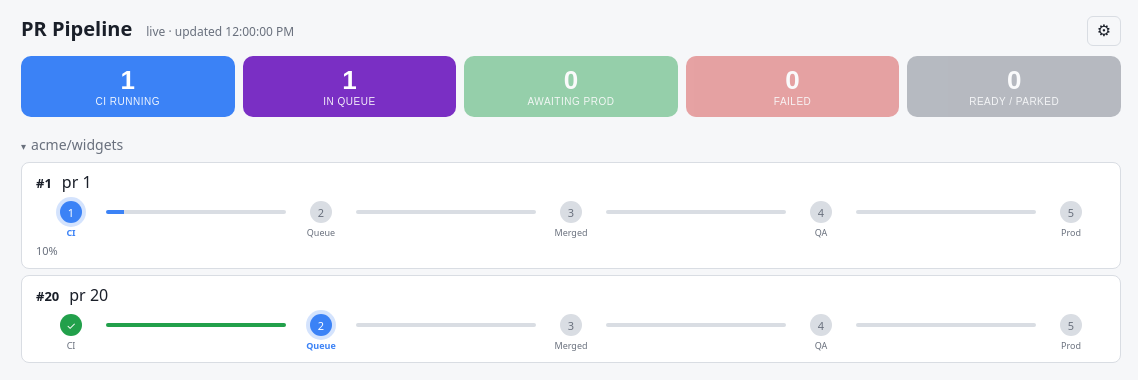
Test: App › clicking active tile again clears the filter
The image size is (1138, 380).
// filter to running
Click the button "1 CI running" at (128, 87), box [21, 56, 235, 117]
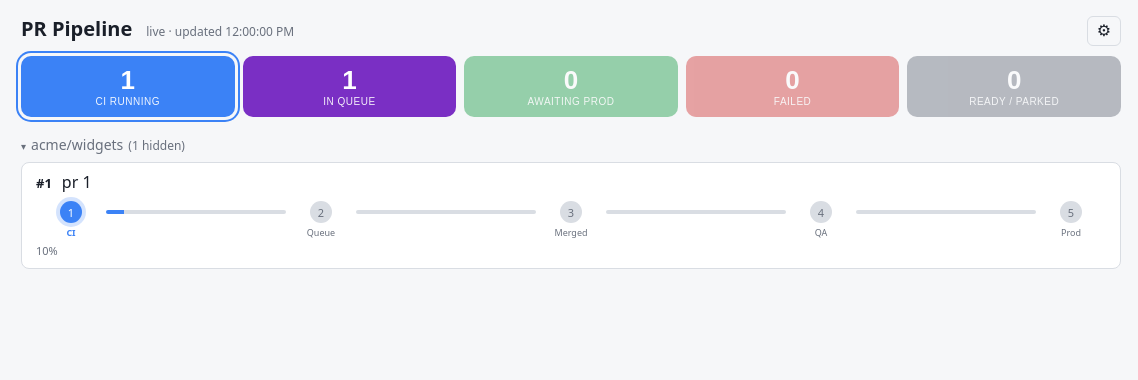
expect the text "#20" is gone: met
// click running again to clear
Click the button "1 CI running" at (128, 87), box [21, 56, 235, 117]
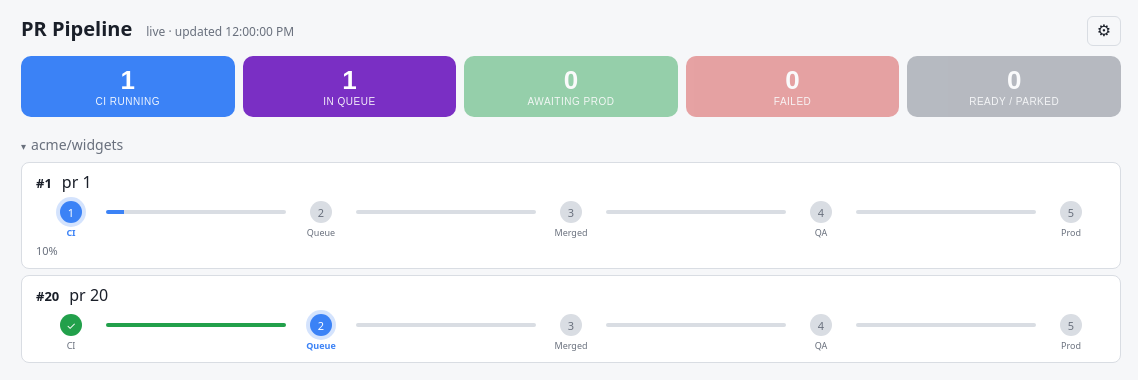
expect the text "#20" is shown: met, box [36, 287, 59, 305]
